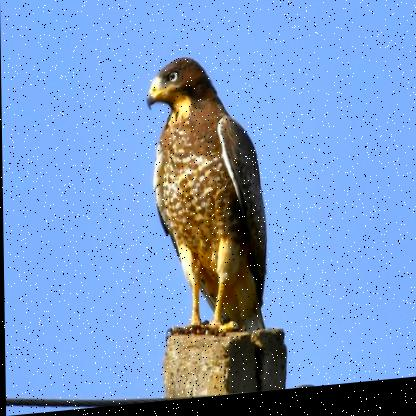Burung: (145, 57, 269, 347)
